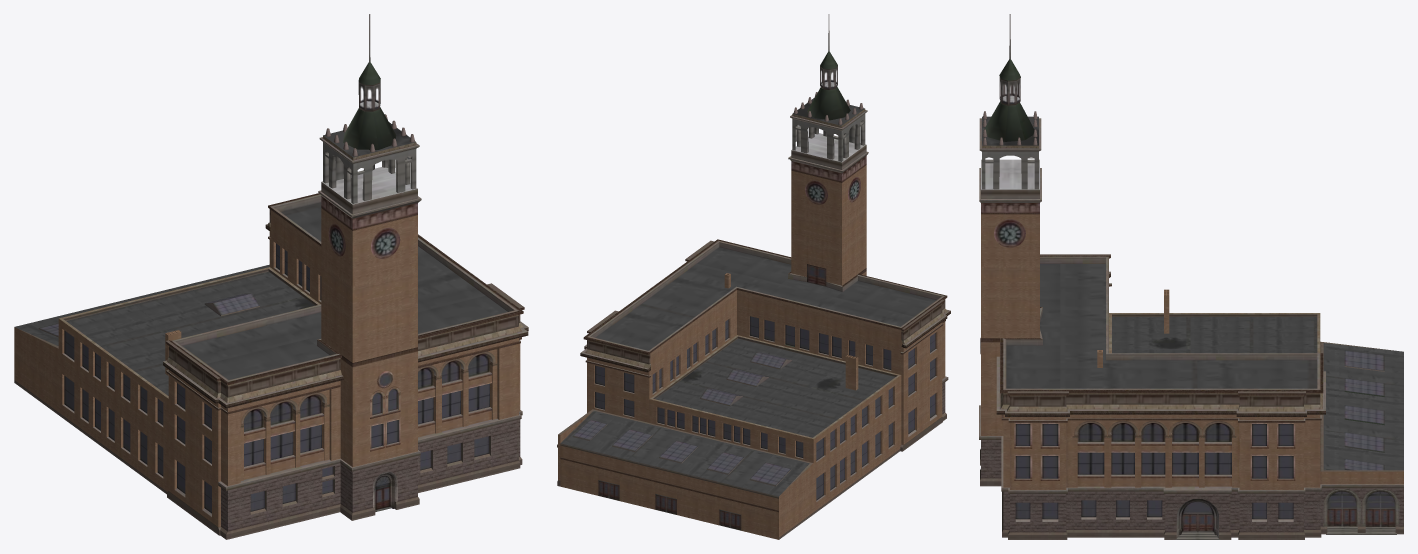
Rendered from estacao.glb.
3 views of the same model, side by side, from view 1: azimuth 30°, elevation 25°; view 2: azimuth 150°, elevation 25°; view 3: azimuth 270°, elevation 25° (orthographic). The views are drawn at different scales.
Parts seen in each view (by area): view 1: Object_3; view 2: Object_3; view 3: Object_3.
Boxes of the visible parts, x1,y1,x2,y2 form: Object_3: (14, 14, 528, 539); Object_3: (557, 14, 950, 539); Object_3: (979, 14, 1403, 539).
Size of the model in its own units: 3798 by 5707 by 4816.
1 material, 1 textured.
